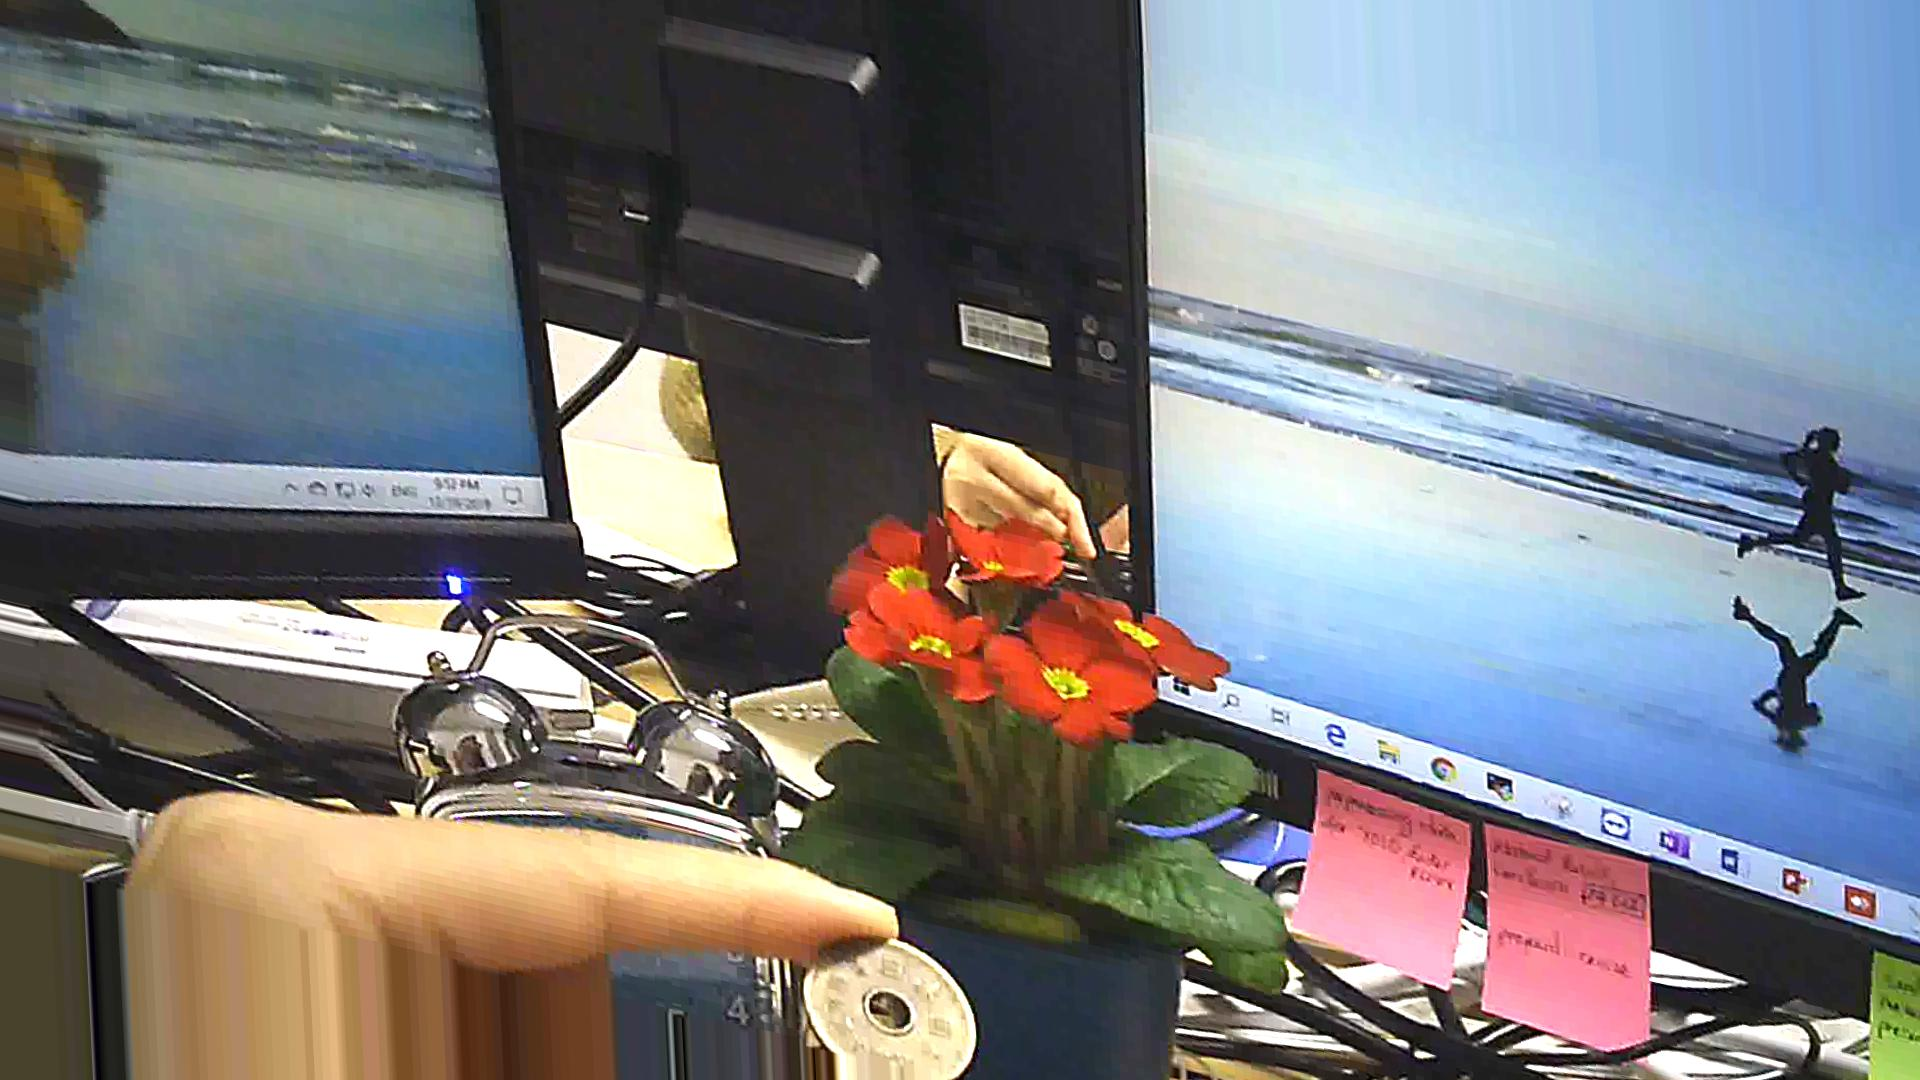5 Yen: (785, 914, 978, 1079)
